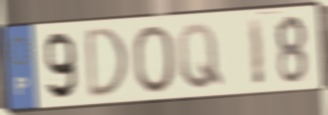8: (275, 14, 311, 86)
9: (43, 31, 80, 102)
D: (85, 25, 131, 102)
I: (246, 15, 267, 89)
O: (131, 23, 178, 96)
Q: (175, 21, 226, 92)
